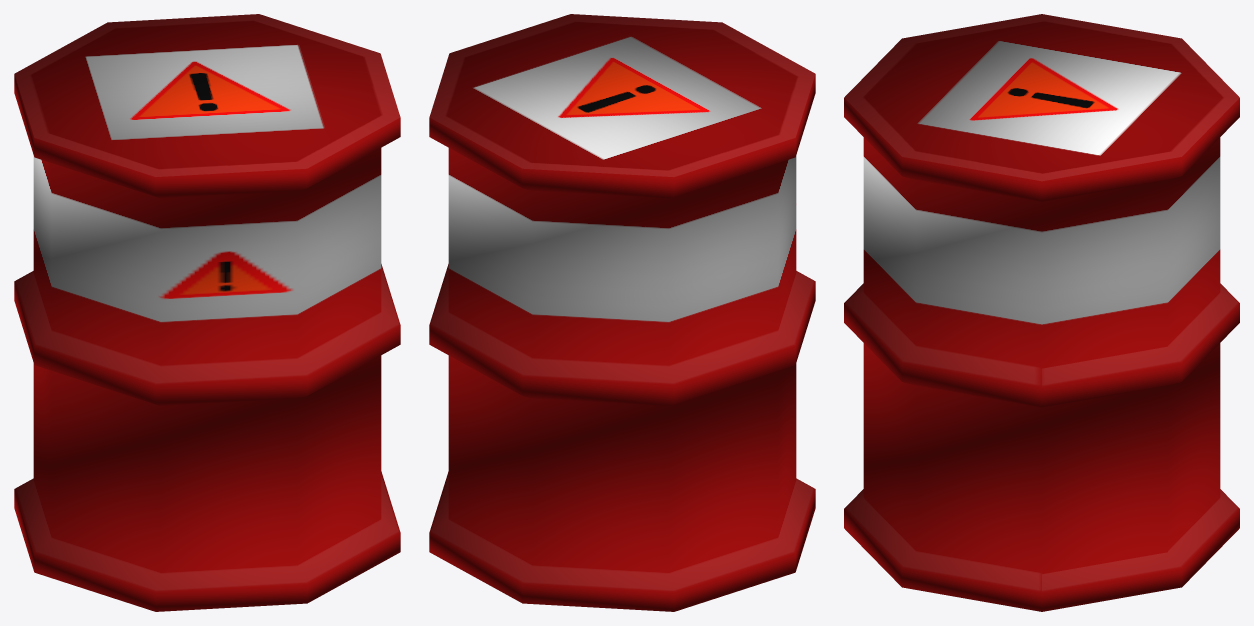
File: Barrel.FBX
3 renders of one model, left to right at view 1: azimuth 30°, elevation 25°; view 2: azimuth 150°, elevation 25°; view 3: azimuth 270°, elevation 25°, orthographic.
Parts seen in each view (by area): view 1: Barrel; view 2: Barrel; view 3: Barrel.
Boxes of the visible parts, bbox=[...] form: Barrel: bbox=[14, 14, 400, 611]; Barrel: bbox=[429, 14, 815, 611]; Barrel: bbox=[844, 14, 1239, 611].
Size of the model in its own units: 10 by 12 by 10.
1 material, 1 textured.
